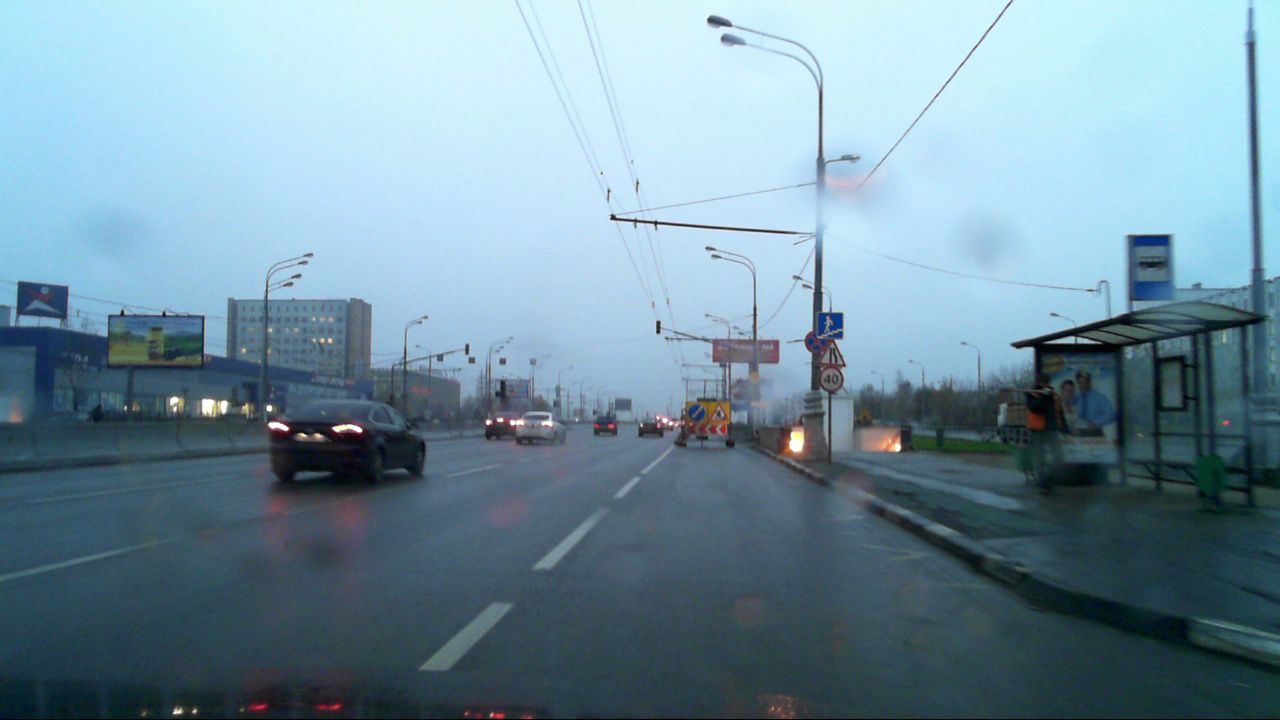No Parking: (803, 330, 825, 351)
speed_warning_40: (820, 368, 843, 393)
